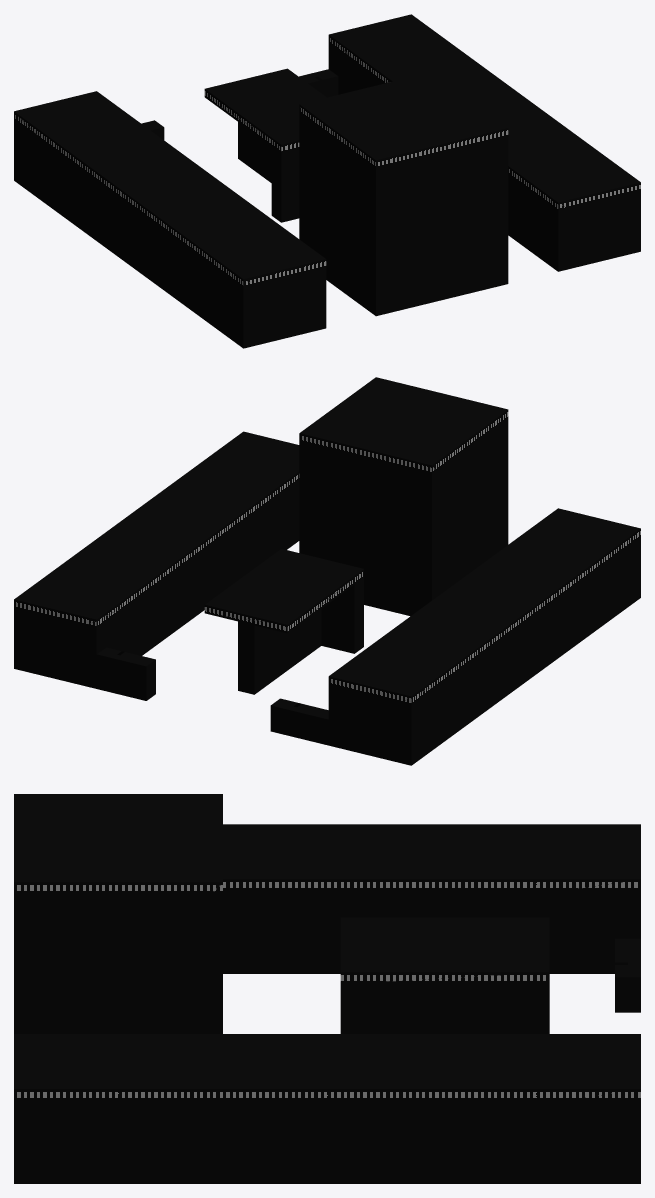
The model's file is building_b.gltf.
The picture shows the model from 3 angles, top to bottom: view 1: azimuth 30°, elevation 25°; view 2: azimuth 150°, elevation 25°; view 3: azimuth 270°, elevation 25°; orthographic projection. The views are drawn at different scales.
Visible parts, largest first — view 1: building; view 2: building; view 3: building.
Boxes of the visible parts, x1,y1,x2,y2 form: building: (14, 14, 640, 348); building: (14, 377, 640, 765); building: (14, 794, 640, 1183).
Bounding box in the file's own units: 3 × 1.12 × 3.
Materials: 1 (1 with a texture image).
